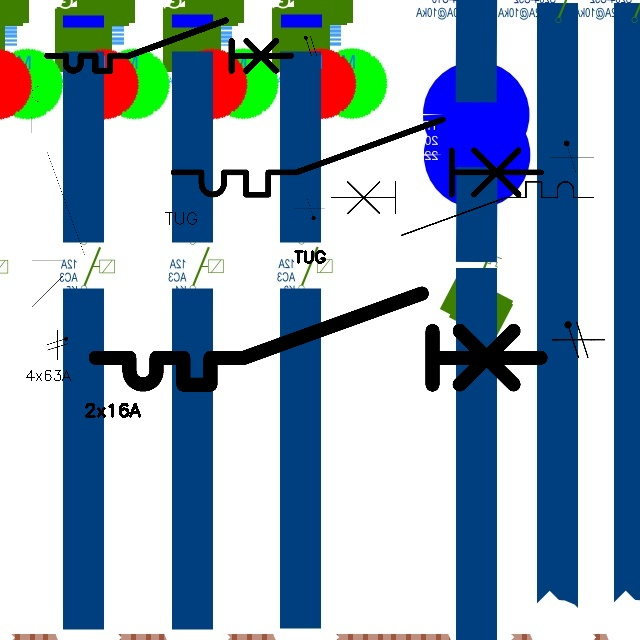interruptor_termomagnetico: (84, 282, 552, 396), (164, 110, 550, 204), (325, 175, 600, 242), (25, 60, 91, 329), (41, 14, 297, 77)
